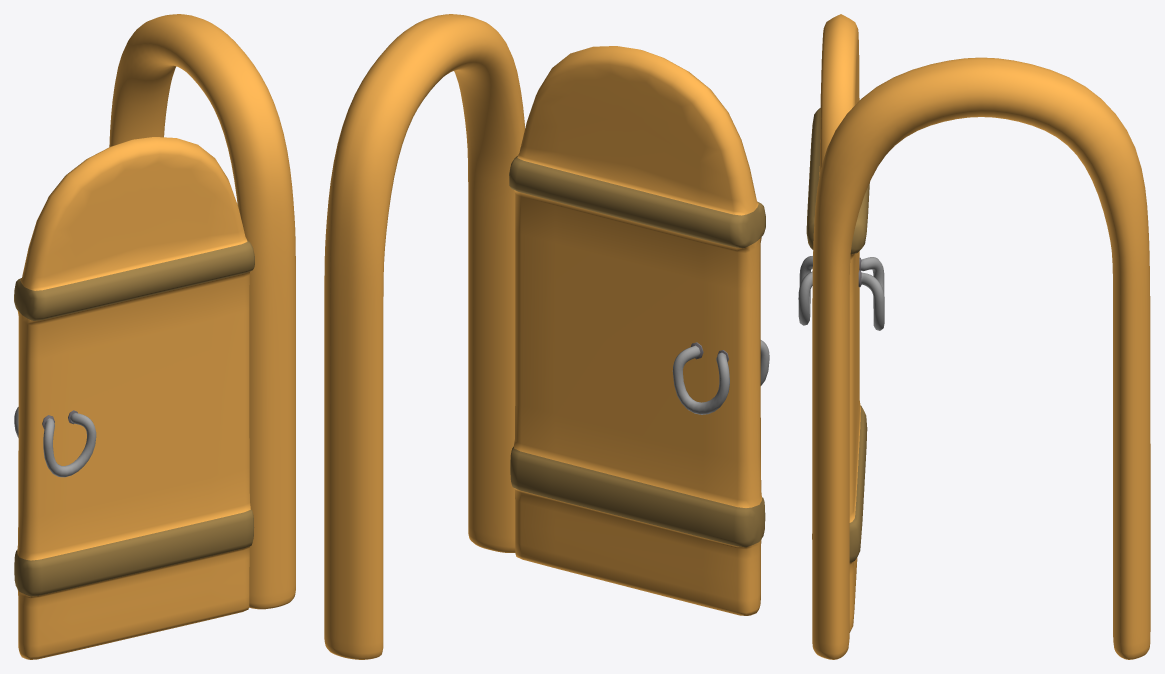
Rendered from DOOR.fbx.
The picture shows the model from 3 angles, left to right: view 1: azimuth 30°, elevation 25°; view 2: azimuth 150°, elevation 25°; view 3: azimuth 270°, elevation 25°; orthographic projection. The views are drawn at different scales.
Parts seen in each view (by area): view 1: Wall.002, Wall.001, BézierCurve; view 2: Wall.002, Wall.001, BézierCurve.001; view 3: Wall.001, Wall.002, BézierCurve.001, BézierCurve.
Part boxes in pixels (bbox=[...]): Wall.002: bbox=[14, 137, 254, 659]; Wall.001: bbox=[109, 14, 295, 609]; BézierCurve: bbox=[42, 410, 96, 477]; Wall.002: bbox=[509, 46, 765, 615]; Wall.001: bbox=[324, 14, 525, 659]; BézierCurve.001: bbox=[672, 342, 729, 414]; Wall.001: bbox=[812, 57, 1150, 659]; Wall.002: bbox=[806, 14, 869, 632]; BézierCurve.001: bbox=[858, 257, 884, 330]; BézierCurve: bbox=[798, 256, 812, 325].
Bounding box in the file's own units: 82.54 × 153 × 82.89.
